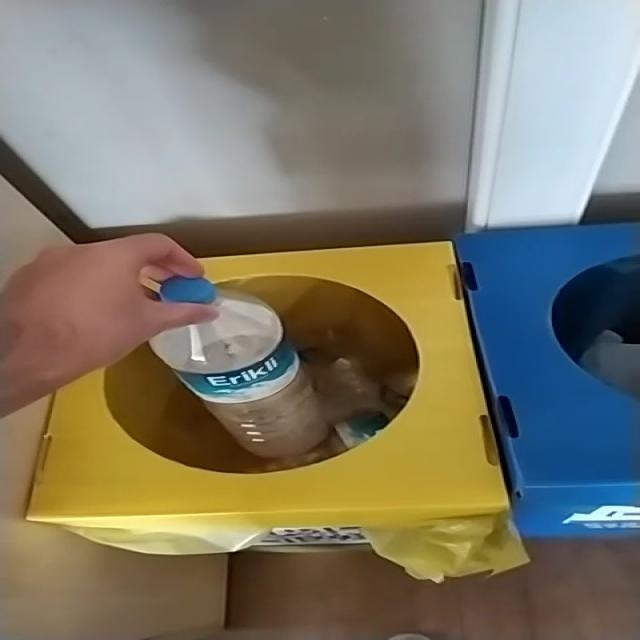plastic: (159, 276, 216, 304)
